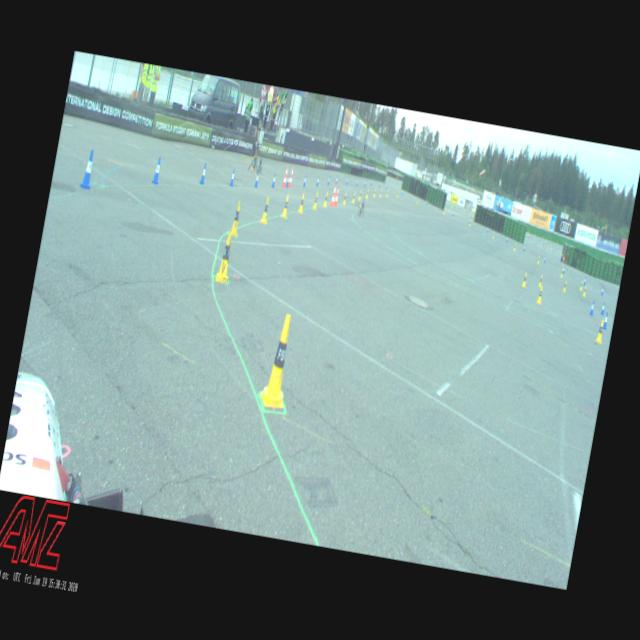blue_cone: (80, 149, 96, 189), (152, 156, 162, 184), (198, 162, 208, 185), (228, 168, 236, 186), (253, 170, 260, 188), (602, 312, 608, 329), (589, 300, 595, 315), (285, 172, 290, 188), (271, 173, 276, 188), (600, 302, 606, 314), (302, 173, 307, 186), (326, 176, 331, 186), (600, 284, 604, 296), (316, 176, 320, 187), (582, 276, 586, 286), (334, 176, 338, 184), (543, 254, 546, 264), (562, 265, 565, 274), (345, 176, 348, 184), (355, 178, 358, 185), (364, 178, 366, 186)
large_orange_cone: (281, 165, 289, 188), (330, 184, 338, 206), (334, 184, 341, 206), (288, 165, 294, 188)
yellow_cone: (258, 312, 299, 408), (214, 229, 236, 282), (228, 199, 244, 236), (594, 318, 606, 344), (260, 196, 271, 224), (280, 194, 290, 218), (536, 284, 544, 304), (298, 193, 305, 213), (520, 272, 528, 288), (312, 192, 318, 210), (322, 191, 328, 207), (538, 274, 544, 286), (342, 192, 347, 205), (562, 280, 567, 292), (352, 191, 356, 203), (582, 285, 586, 296), (579, 280, 583, 291), (364, 188, 368, 198), (358, 190, 362, 200), (536, 255, 540, 264), (560, 268, 564, 277), (378, 188, 382, 196), (373, 188, 376, 198), (386, 188, 388, 198)
